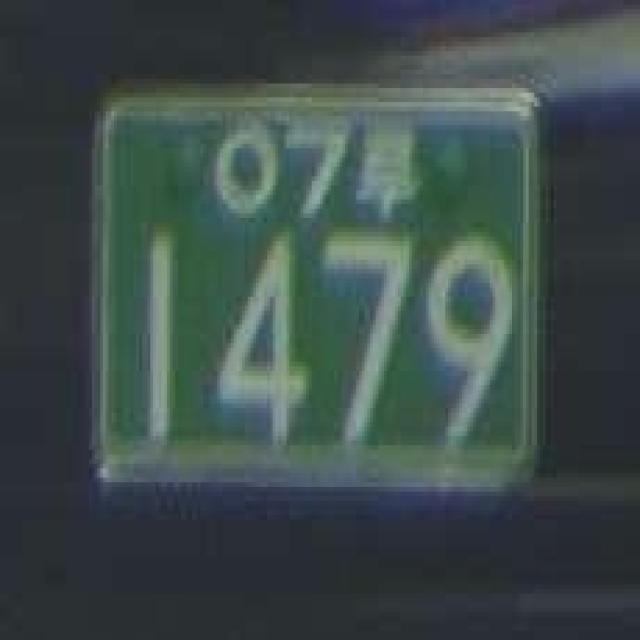illegal_plate: (77, 71, 568, 535)
